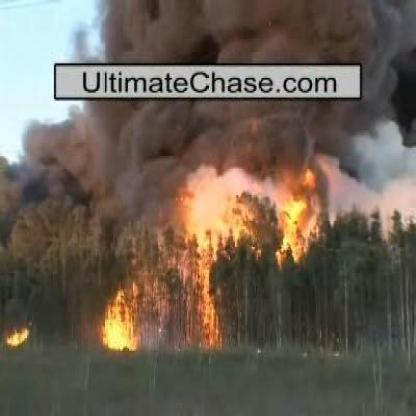-: (0, 0, 414, 145), (318, 152, 411, 217)
foggia-v2-map80-epoch100 - v1 4323: (108, 172, 312, 348), (7, 320, 42, 348)
